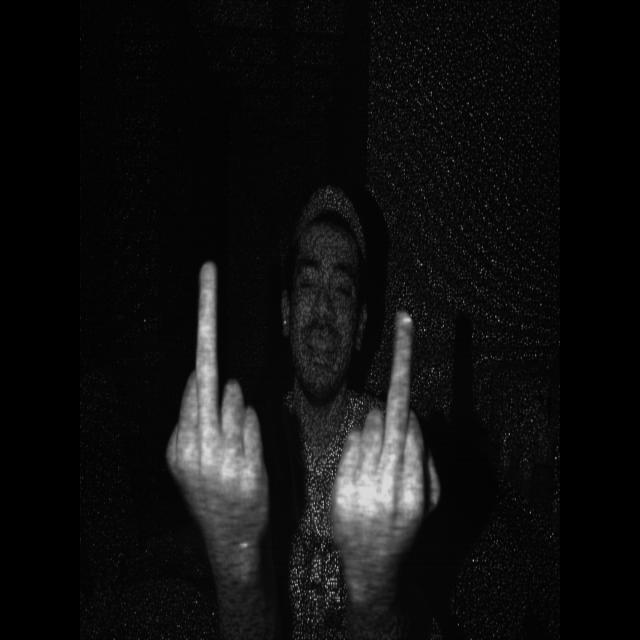FUCK YOU: (154, 246, 286, 574), (330, 291, 452, 593)
